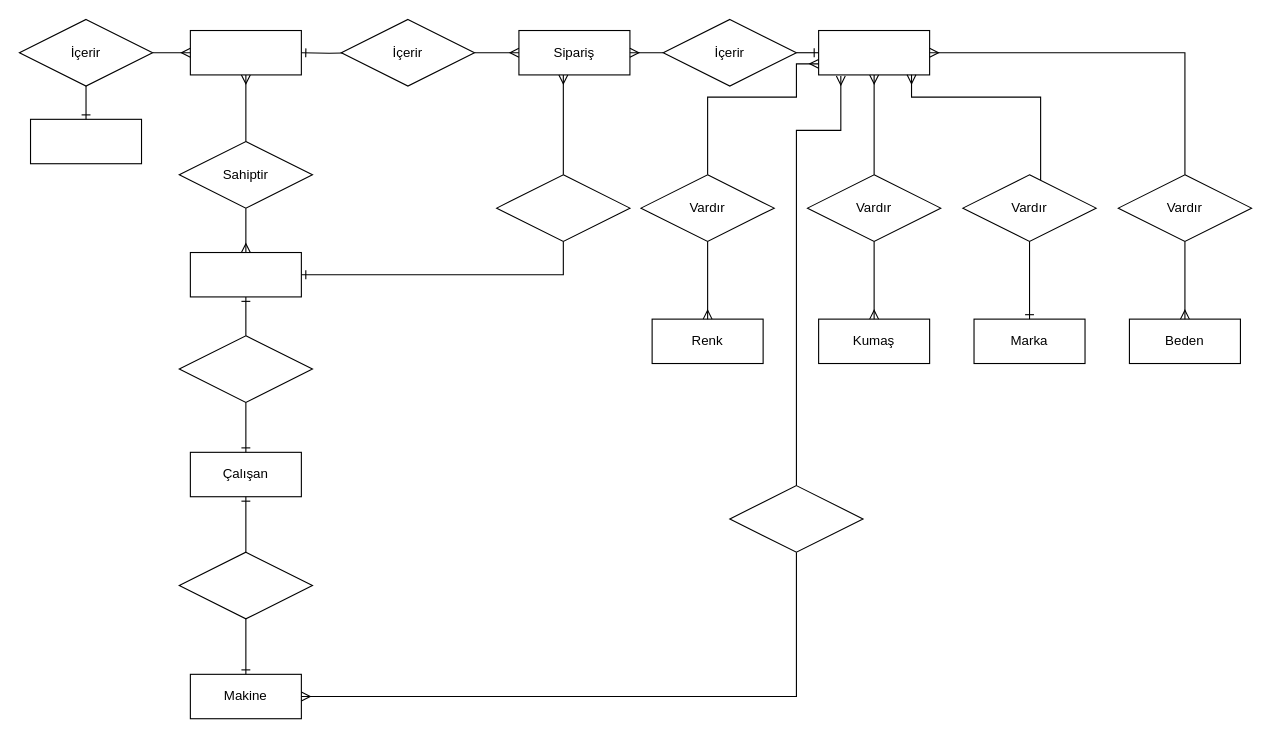
Some shapes in this 1271 by 738 pixel diagram are drawn without their labels. The box of each missing label's shape, as (x1, y1, x2, y2) in pixels:
Adres: (189, 29, 301, 75)
İl: (29, 118, 142, 164)
Kişi: (189, 251, 301, 297)
Kişidir: (178, 335, 312, 402)
Kullanır: (178, 551, 312, 619)
Verir: (496, 174, 630, 241)
Üretir: (729, 485, 863, 552)
Ürün: (818, 29, 930, 75)
